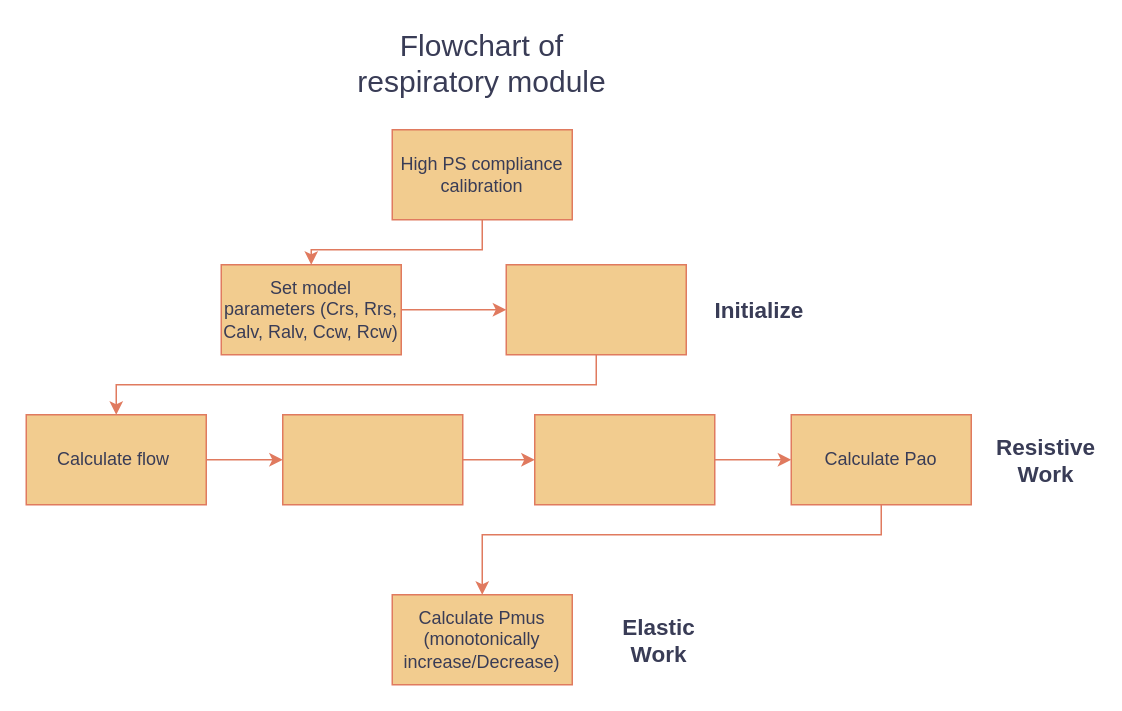
This 1122x711 diagram has some shape labels left out. The box of each missing label's shape, as (x1, y1, x2, y2) in pixels:
Calculate Palv: (281, 413, 463, 505)
Calculate volume: (533, 413, 715, 505)
Set initial conditions (Pao0, V0, Q0, Ppl0, Pmus0): (505, 263, 686, 355)
